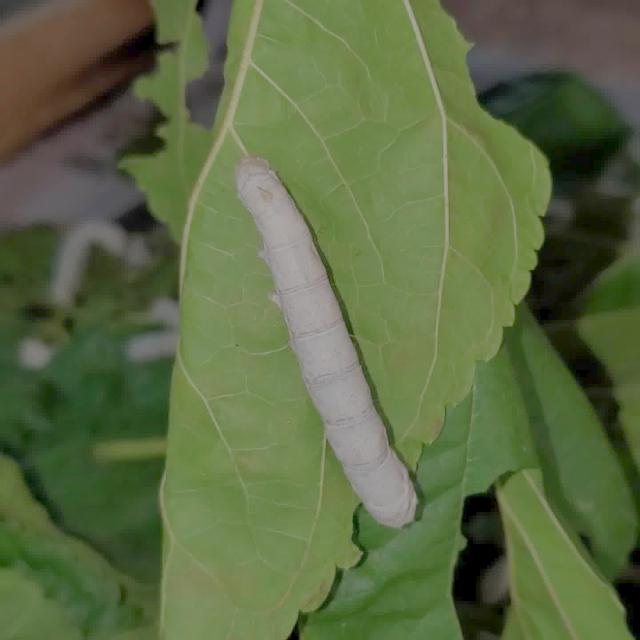Healthy: (230, 150, 431, 539)
